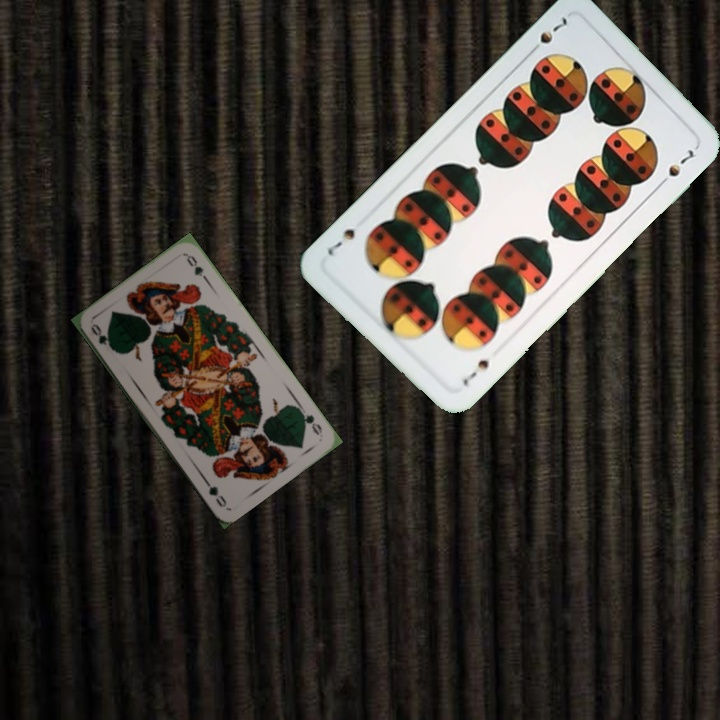GO: (87, 320, 119, 354), (295, 402, 325, 438)
S7: (524, 12, 570, 58), (458, 355, 492, 389)
